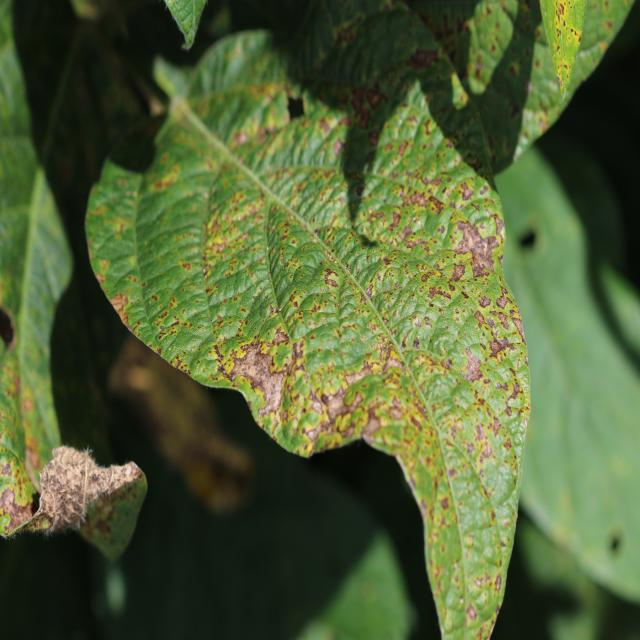Bacterial_Blight: (311, 245, 373, 327), (222, 342, 285, 420), (449, 204, 495, 279), (0, 476, 40, 534), (344, 83, 385, 133), (322, 381, 357, 427), (108, 290, 133, 328), (380, 350, 407, 382), (486, 335, 516, 363), (150, 165, 180, 192), (463, 348, 484, 382), (409, 47, 438, 70), (290, 338, 308, 369), (405, 190, 430, 209), (486, 414, 503, 439), (512, 316, 527, 344), (93, 516, 112, 538), (381, 340, 395, 369), (363, 414, 381, 436), (272, 327, 290, 348), (428, 285, 451, 301), (507, 381, 523, 403), (212, 344, 228, 366), (386, 211, 402, 232), (450, 264, 466, 283), (459, 183, 475, 201), (473, 423, 487, 443), (466, 602, 477, 620), (0, 462, 12, 477), (440, 496, 450, 511), (494, 574, 502, 592), (321, 393, 330, 406), (412, 337, 420, 350)
Soybean: (86, 32, 530, 640)
